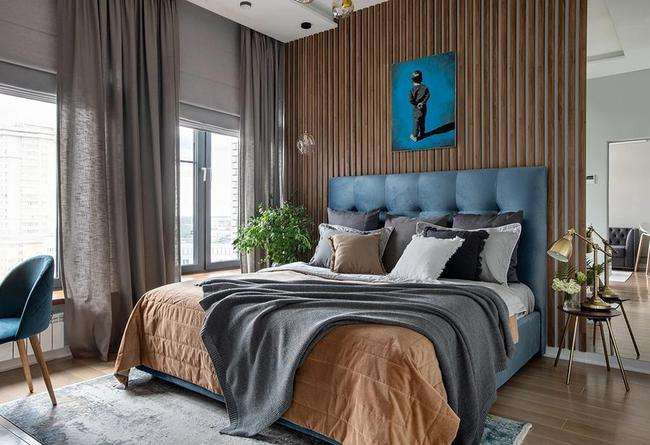床: (119, 268, 540, 434)
枕头: (317, 209, 522, 275)
灯: (551, 226, 616, 310), (292, 134, 315, 157)
